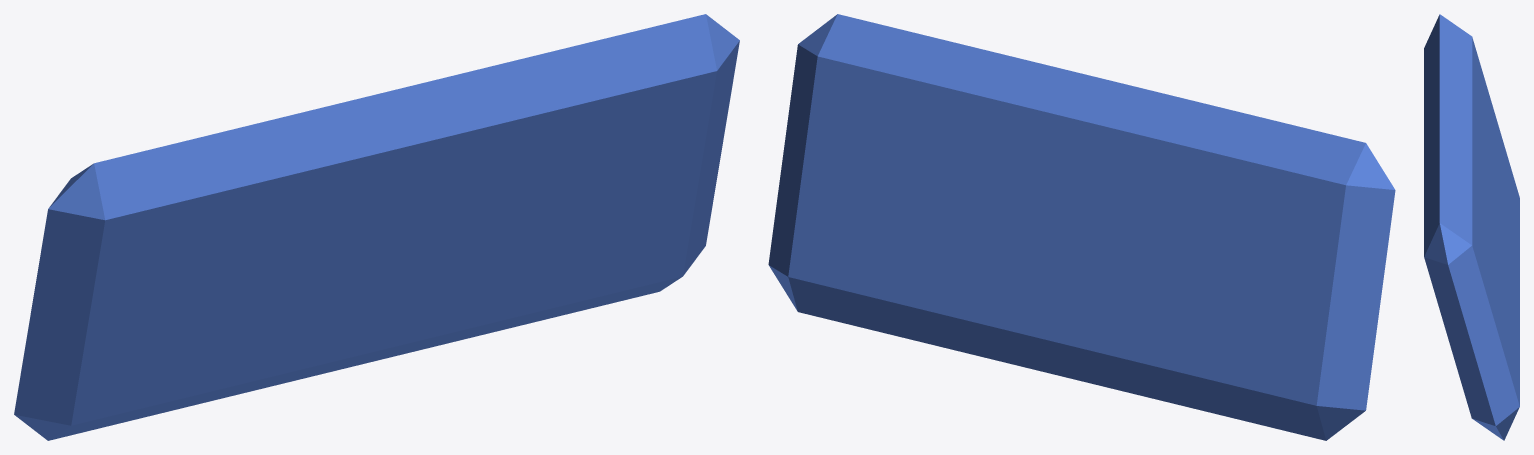
The model's file is pillowBlueLong.fbx.
3 renders of one model, left to right at view 1: azimuth 30°, elevation 25°; view 2: azimuth 150°, elevation 25°; view 3: azimuth 270°, elevation 25°, orthographic. The views are drawn at different scales.
Parts seen in each view (by area): view 1: pillowBlueLong; view 2: pillowBlueLong; view 3: pillowBlueLong.
Part boxes in pixels (box(x1,y1,x2,y2)): pillowBlueLong: box(14, 14, 739, 440); pillowBlueLong: box(768, 14, 1395, 440); pillowBlueLong: box(1424, 14, 1519, 440).
Size of the model in its own units: 5.17 by 2.22 by 0.8848.
